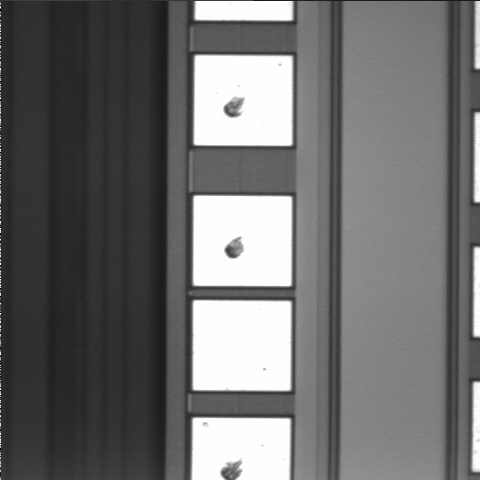pad: (194, 55, 292, 146), (193, 300, 291, 391), (193, 196, 292, 286)
